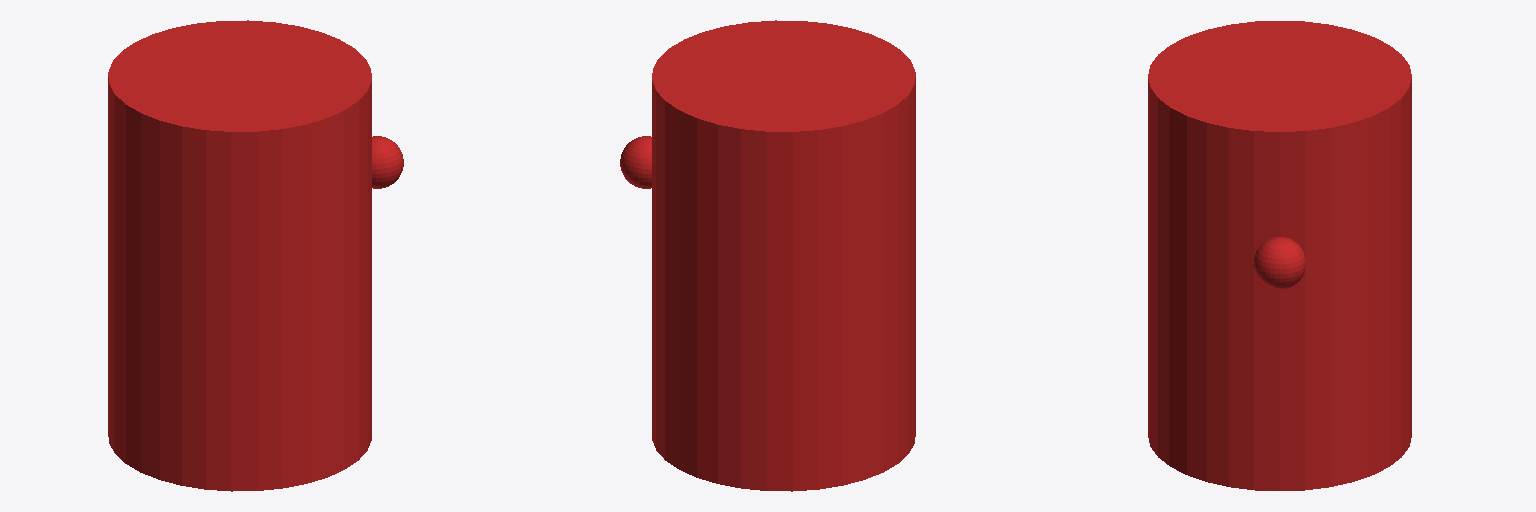
The robot description file, URDF, robot "cup_with_handle":
<?xml version="1.0"?>
<robot name="cup_with_handle">
    <link name="base_link">
        <!-- 杯身（圆柱体） -->
        <collision>
            <geometry>
                <cylinder length="0.15" radius="0.05"/>
            </geometry>
            <origin rpy="0 0 0" xyz="0 0 0.075"/>
        </collision>

        <visual>
            <geometry>
                <cylinder length="0.15" radius="0.05"/>
            </geometry>
            <origin rpy="0 0 0" xyz="0 0 0.075"/>
            <material name="red">
                <color rgba="0.8 0.2 0.2 1"/>
            </material>
        </visual>

        <!-- 杯把手（环状体，用多个小球模拟） -->
        <collision>
            <geometry>
                <sphere radius="0.01"/>
            </geometry>
            <origin rpy="0 0 0" xyz="0.06 0 0.1"/>
        </collision>

        <visual>
            <geometry>
                <sphere radius="0.01"/>
            </geometry>
            <origin rpy="0 0 0" xyz="0.06 0 0.1"/>
            <material name="red">
                <color rgba="0.8 0.2 0.2 1"/>
            </material>
        </visual>

        <!-- 物理属性 -->
        <inertial>
            <mass value="0.15"/>
            <inertia ixx="0.0002" ixy="0" ixz="0" iyy="0.0002" iyz="0" izz="0.0002"/>
        </inertial>
    </link>
</robot>

--- Facts derived from the render (not from the file) ---
The picture shows the robot from 3 angles, left to right: view 1: azimuth 30°, elevation 25°; view 2: azimuth 150°, elevation 25°; view 3: azimuth 270°, elevation 25°; orthographic projection.
Robot: cup_with_handle — 1 links, 0 joints (none); root link base_link; default pose: all joints at 0.
Visible links, largest first — view 1: base_link; view 2: base_link; view 3: base_link.
Boxes of the visible links, x1,y1,x2,y2 form: base_link: [108, 20, 403, 491]; base_link: [620, 20, 915, 491]; base_link: [1148, 21, 1411, 490].
Bounding box of the posed robot: 0.12 × 0.1 × 0.15 m (x, y, z).
Geometry: primitives only (box / cylinder / sphere), no mesh files.
